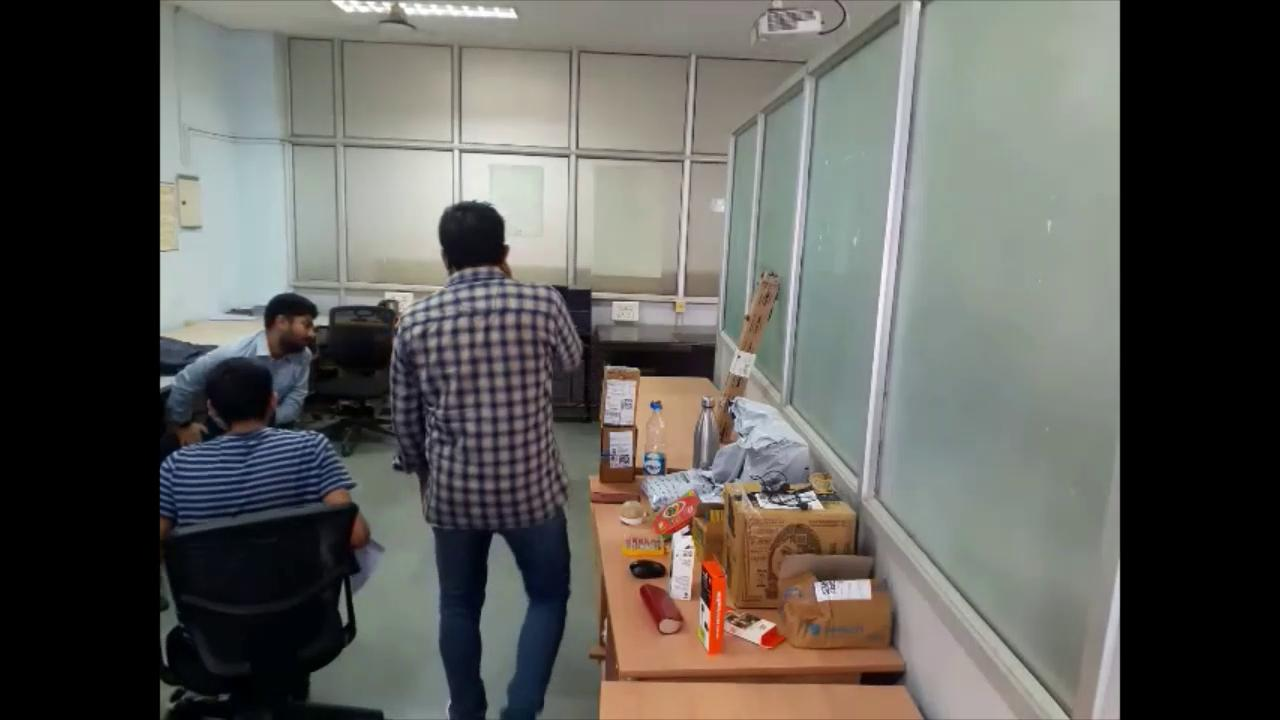Normal: (378, 198, 593, 719)
